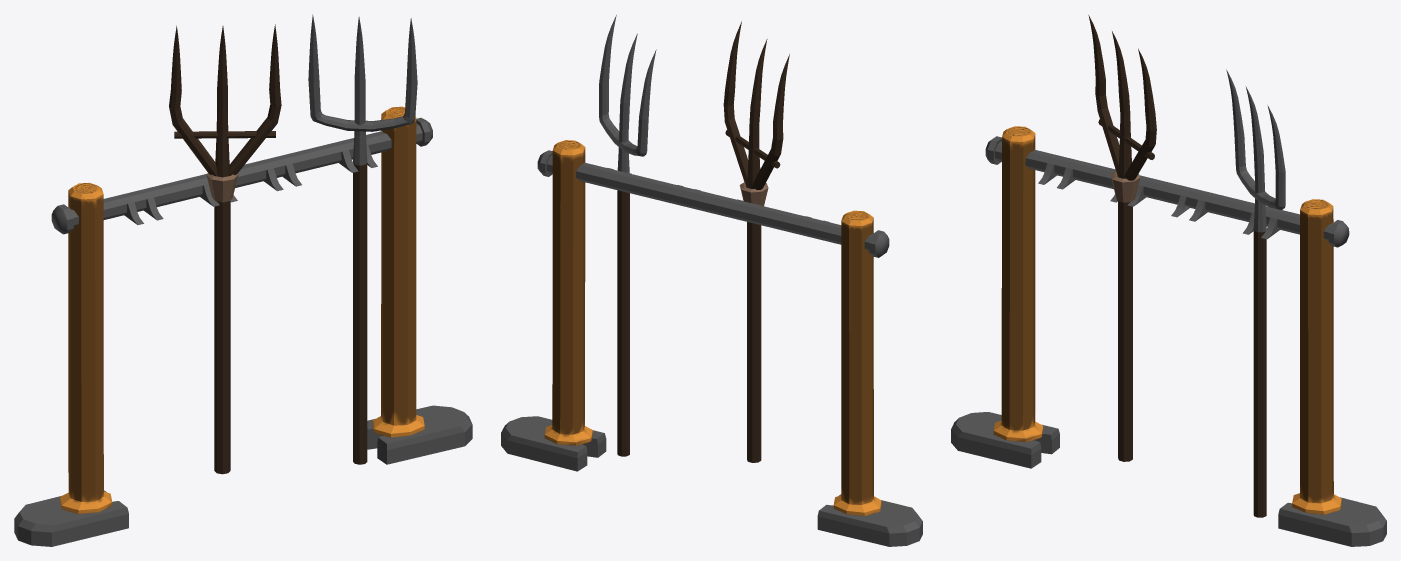
Rendered from ToolRackWithTools.fbx.
The picture shows the model from 3 angles, left to right: view 1: azimuth 30°, elevation 25°; view 2: azimuth 150°, elevation 25°; view 3: azimuth 330°, elevation 25°; orthographic projection. The views are drawn at different scales.
Visible parts, largest first — view 1: Cube.005, Circle.001, Circle.003, Cylinder.001; view 2: Cube.005, Circle.001, Circle.003, Cylinder.001; view 3: Cube.005, Circle.001, Circle.003, Cylinder.001.
Part boxes in pixels (bbox=[...]): Cube.005: bbox=[14, 106, 472, 546]; Circle.001: bbox=[169, 24, 281, 474]; Circle.003: bbox=[308, 14, 417, 464]; Cylinder.001: bbox=[51, 117, 432, 234]; Cube.005: bbox=[501, 140, 922, 546]; Circle.001: bbox=[723, 21, 789, 462]; Circle.003: bbox=[599, 15, 656, 456]; Cylinder.001: bbox=[537, 150, 889, 257]; Cube.005: bbox=[951, 126, 1386, 546]; Circle.001: bbox=[1088, 15, 1156, 461]; Circle.003: bbox=[1226, 69, 1285, 517]; Cylinder.001: bbox=[985, 136, 1349, 247].
Size of the model in its own units: 202 by 208 by 37.17.
Materials: 4 (1 with a texture image).
